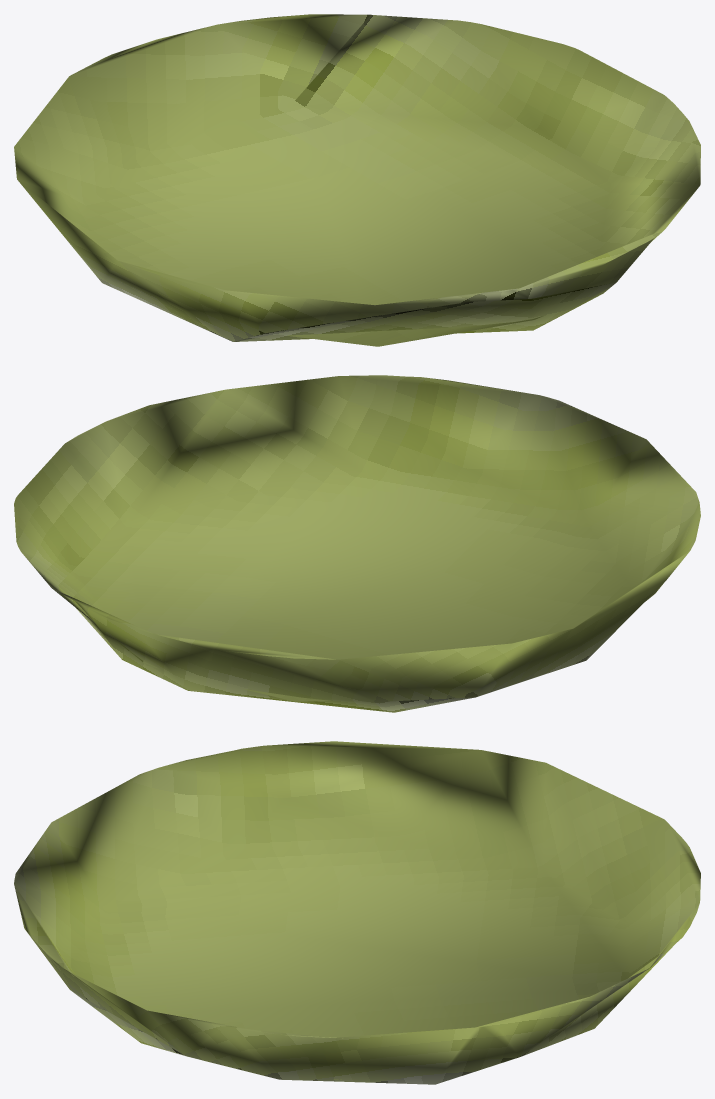
The model's file is Ecoforms_Plate_S20Avocado-low.glb.
The picture shows the model from 3 angles, top to bottom: view 1: azimuth 30°, elevation 25°; view 2: azimuth 150°, elevation 25°; view 3: azimuth 270°, elevation 25°; orthographic projection.
Visible parts, largest first — view 1: Ecoforms_Plate_S20Avocado; view 2: Ecoforms_Plate_S20Avocado; view 3: Ecoforms_Plate_S20Avocado.
Part boxes in pixels (x1,y1,x2,y2): Ecoforms_Plate_S20Avocado: (14, 14, 700, 346); Ecoforms_Plate_S20Avocado: (14, 375, 700, 712); Ecoforms_Plate_S20Avocado: (14, 741, 700, 1084).
Bounding box in the file's own units: 0.2065 × 0.0314 × 0.2059.
1 material, 1 textured.
